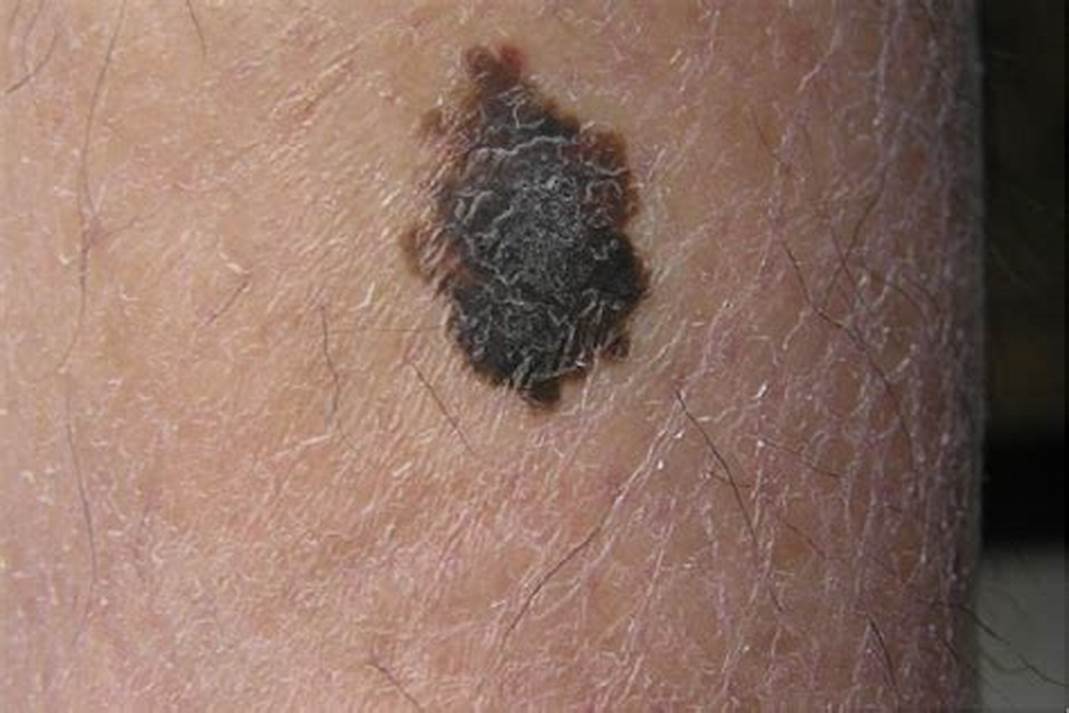Melanoma: (404, 45, 656, 426)
